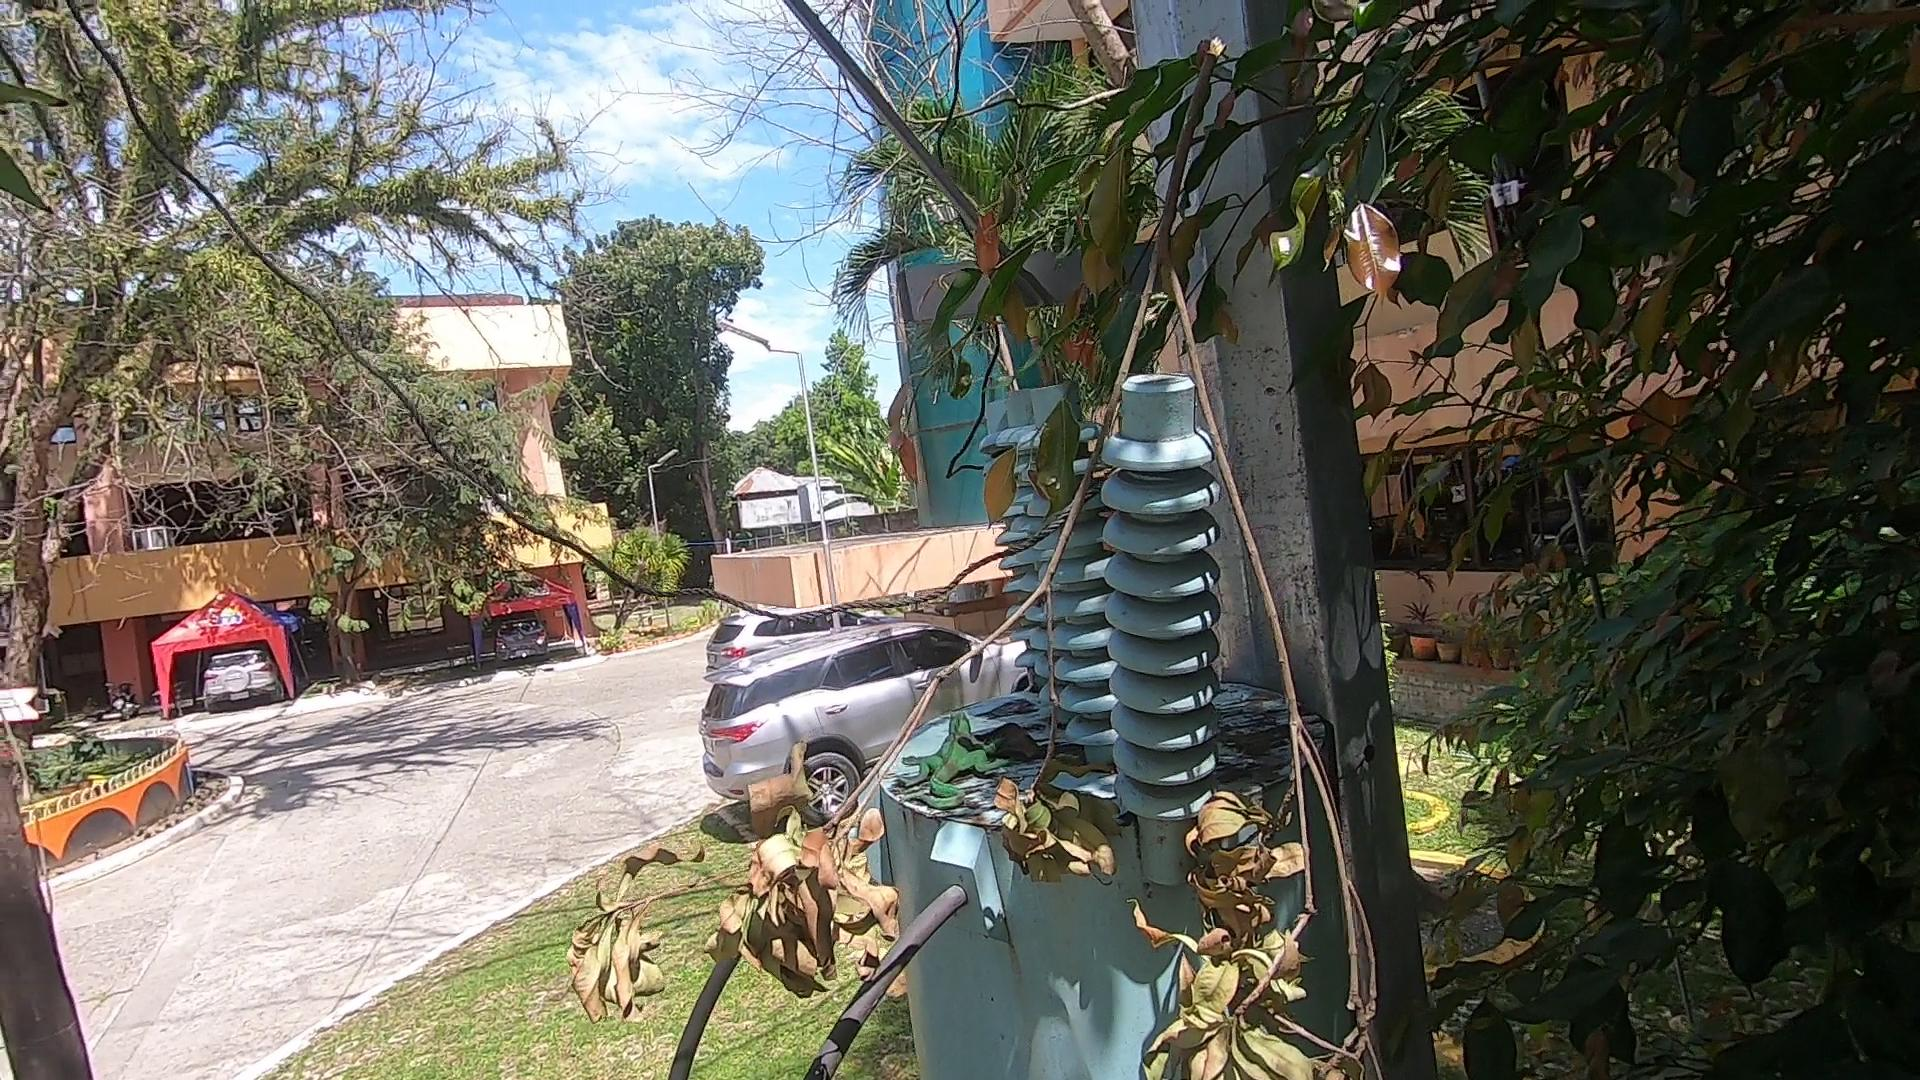branch with leaves: (489, 38, 1458, 1080)
leaf: (982, 720, 1046, 775)
